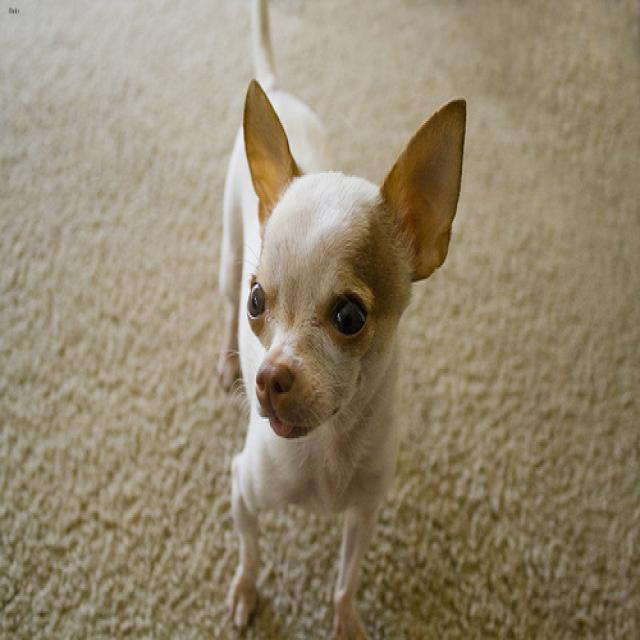dog-chihuahua: (204, 2, 480, 636)
